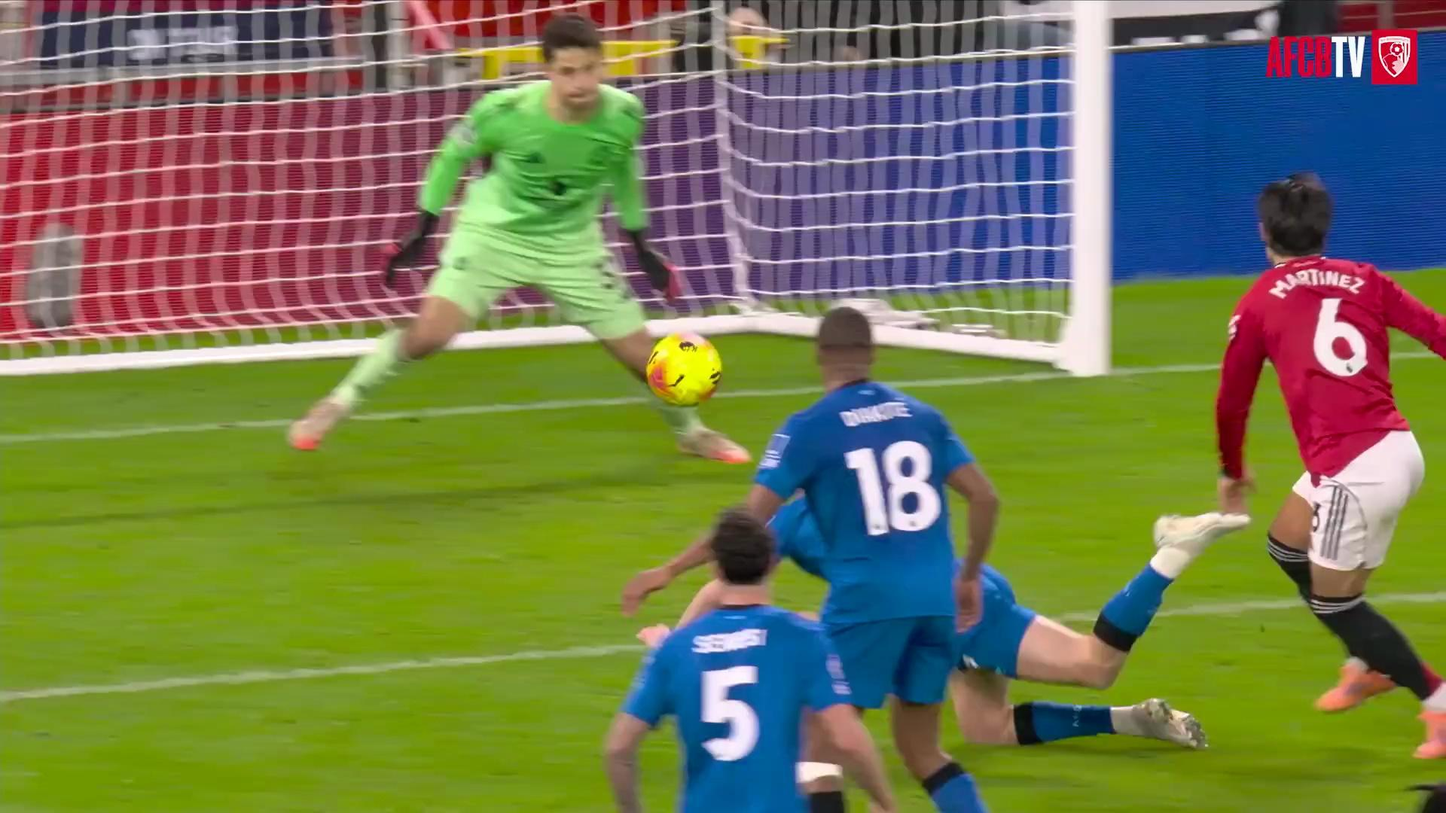football: (646, 333, 721, 406)
player: (291, 14, 679, 449), (1216, 173, 1445, 757), (746, 306, 997, 812), (607, 509, 892, 812), (950, 513, 1248, 748)
